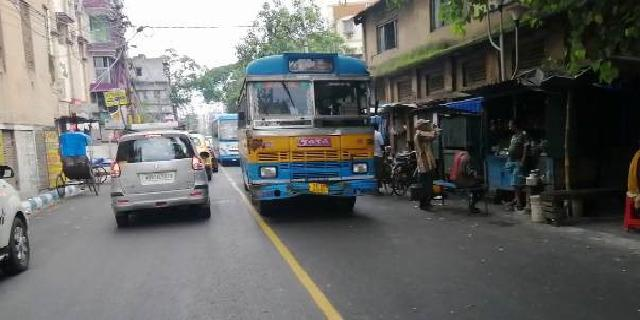Bus: (227, 54, 388, 217)
Car: (102, 131, 217, 222), (1, 162, 36, 275)
Rickshaw: (51, 136, 100, 201)
